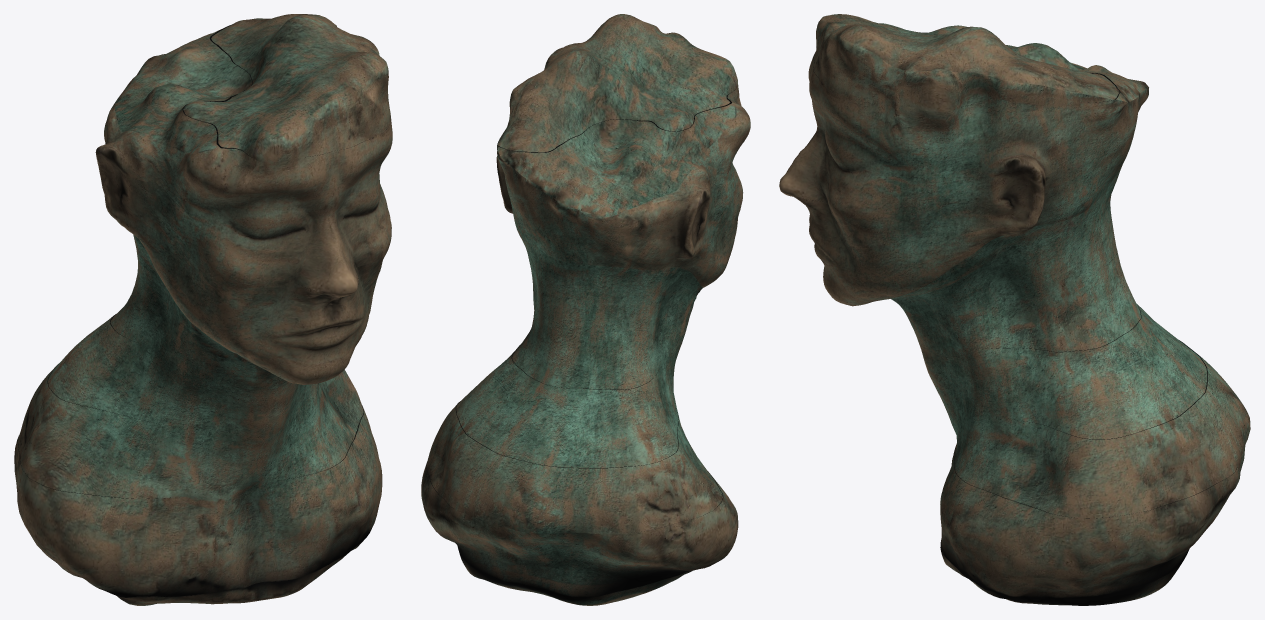
The model's file is bust_separated.glb.
The picture shows the model from 3 angles, left to right: view 1: azimuth 30°, elevation 25°; view 2: azimuth 150°, elevation 25°; view 3: azimuth 270°, elevation 25°; orthographic projection. The views are drawn at different scales.
Parts seen in each view (by area): view 1: Bust.002, Bust.008, Bust.003, Bust.009, Bust.007, Bust.004, Bust.006, Bust.001, Bust.005; view 2: Bust.008, Bust.003, Bust.009, Bust.004, Bust.002, Bust.005, Bust.007, Bust.006, Bust.001; view 3: Bust.003, Bust.004, Bust.008, Bust.009, Bust.007, Bust.002, Bust.006, Bust.005, Bust.001.
Part boxes in pixels (bbox=[...]): Bust.002: bbox=[14, 405, 382, 570]; Bust.008: bbox=[95, 24, 392, 221]; Bust.003: bbox=[17, 363, 363, 498]; Bust.009: bbox=[183, 14, 390, 162]; Bust.007: bbox=[97, 161, 391, 293]; Bust.004: bbox=[48, 314, 318, 432]; Bust.006: bbox=[133, 235, 384, 347]; Bust.001: bbox=[42, 500, 380, 605]; Bust.005: bbox=[110, 270, 368, 384]; Bust.008: bbox=[496, 85, 750, 229]; Bust.003: bbox=[426, 401, 722, 534]; Bust.009: bbox=[497, 14, 737, 152]; Bust.004: bbox=[456, 345, 679, 467]; Bust.002: bbox=[421, 458, 738, 572]; Bust.005: bbox=[512, 278, 717, 389]; Bust.007: bbox=[497, 162, 743, 273]; Bust.006: bbox=[525, 213, 739, 327]; Bust.001: bbox=[455, 543, 733, 605]; Bust.003: bbox=[932, 340, 1250, 518]; Bust.004: bbox=[909, 304, 1206, 439]; Bust.008: bbox=[808, 23, 1148, 180]; Bust.009: bbox=[813, 14, 1119, 112]; Bust.007: bbox=[779, 126, 1131, 236]; Bust.002: bbox=[940, 436, 1245, 578]; Bust.006: bbox=[782, 192, 1116, 287]; Bust.005: bbox=[821, 250, 1140, 352]; Bust.001: bbox=[940, 532, 1189, 605].
Size of the model in its own units: 10.03 by 16.53 by 12.43.
1 material, 1 textured.
